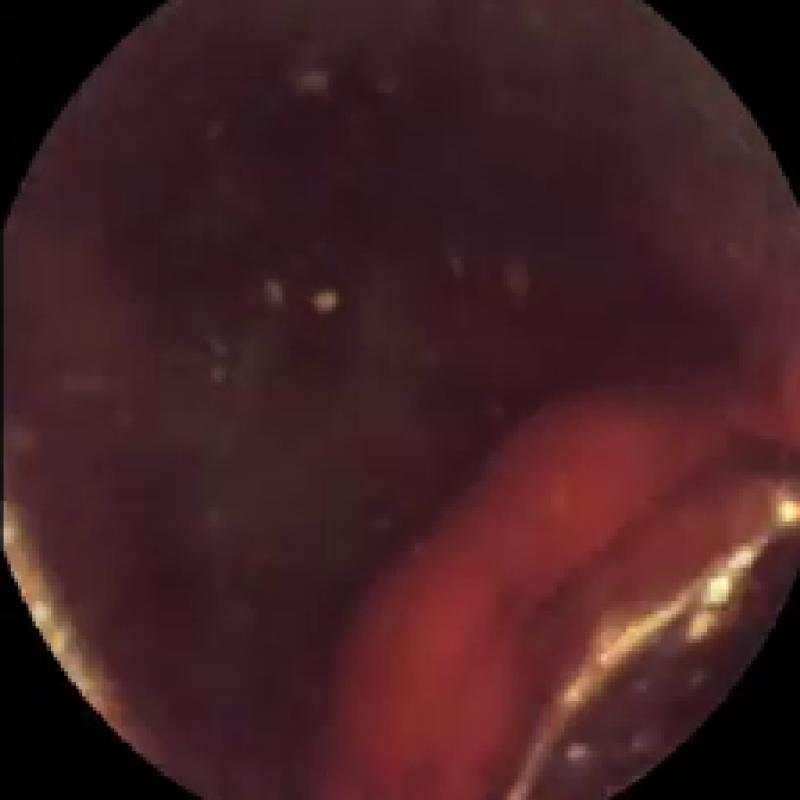bleeding: (332, 400, 800, 800)
